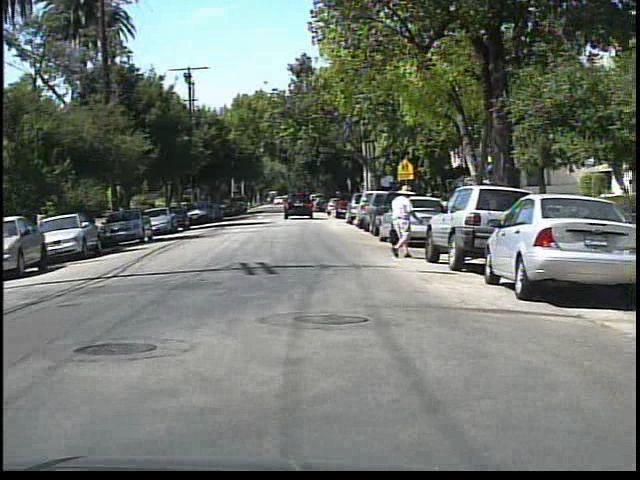person: (379, 183, 424, 263)
